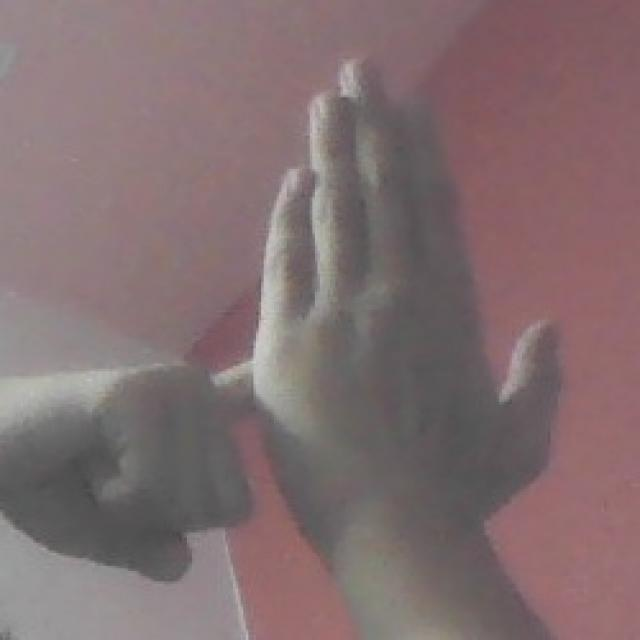Alphabet-R: (34, 46, 575, 584)
